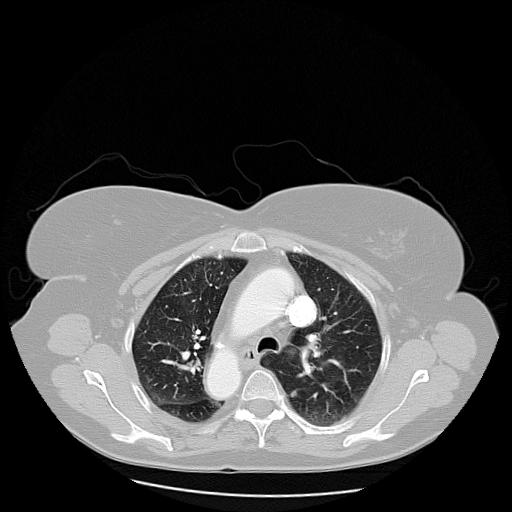nodule: (290, 388, 303, 401)
